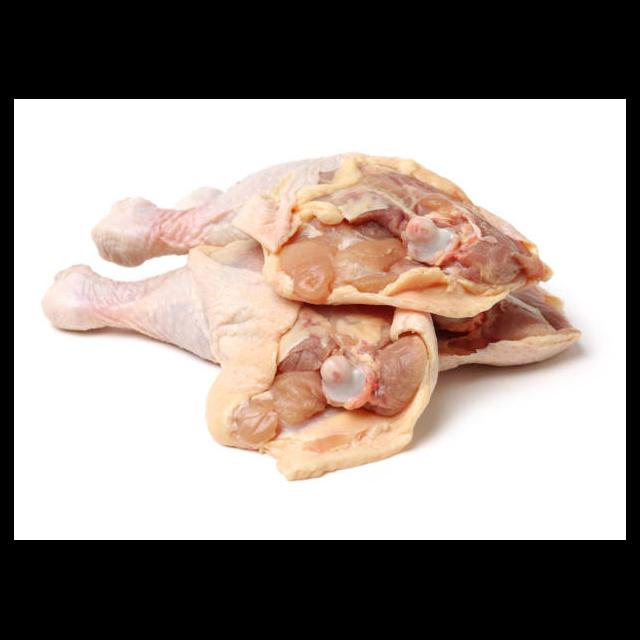chicken: (40, 152, 583, 484)
